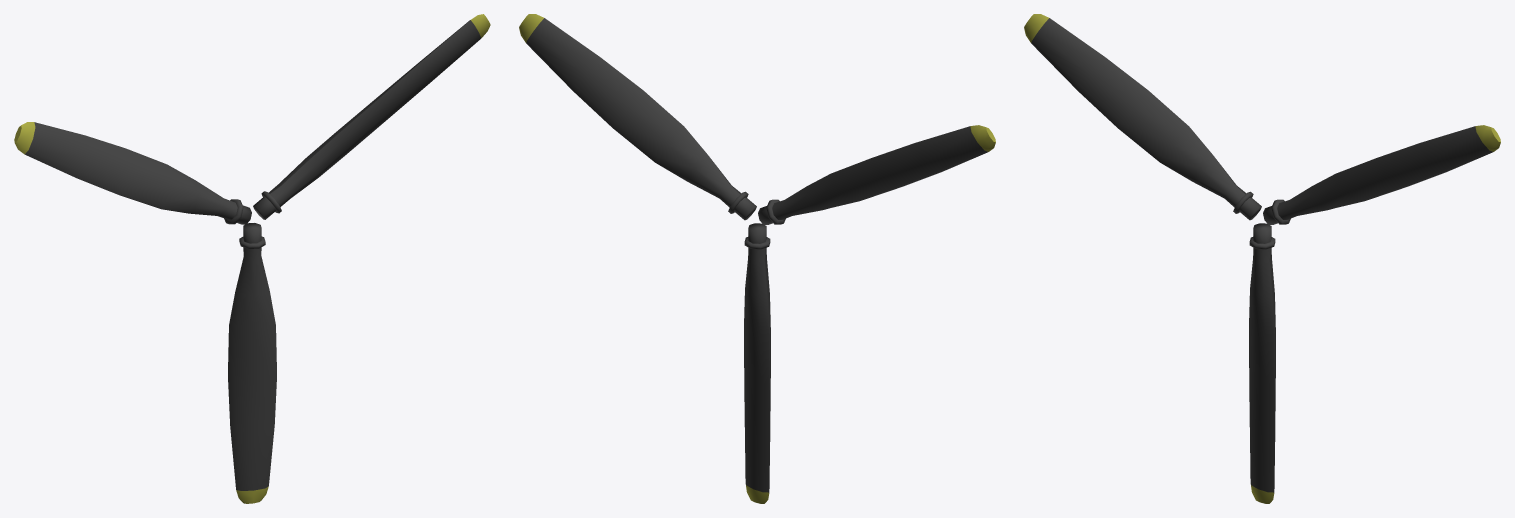
The model's file is F4uCorsair_propeller_slow.glb.
3 renders of one model, left to right at view 1: azimuth 30°, elevation 25°; view 2: azimuth 150°, elevation 25°; view 3: azimuth 330°, elevation 25°, orthographic.
Visible parts, largest first — view 1: Cylinder.001; view 2: Cylinder.001; view 3: Cylinder.001.
Boxes of the visible parts, left/top/right/bottom form: Cylinder.001: left=14, top=14, right=490, bottom=503; Cylinder.001: left=519, top=14, right=995, bottom=503; Cylinder.001: left=1024, top=14, right=1500, bottom=503.
Bounding box in the file's own units: 3.63 × 3.15 × 0.1772.
